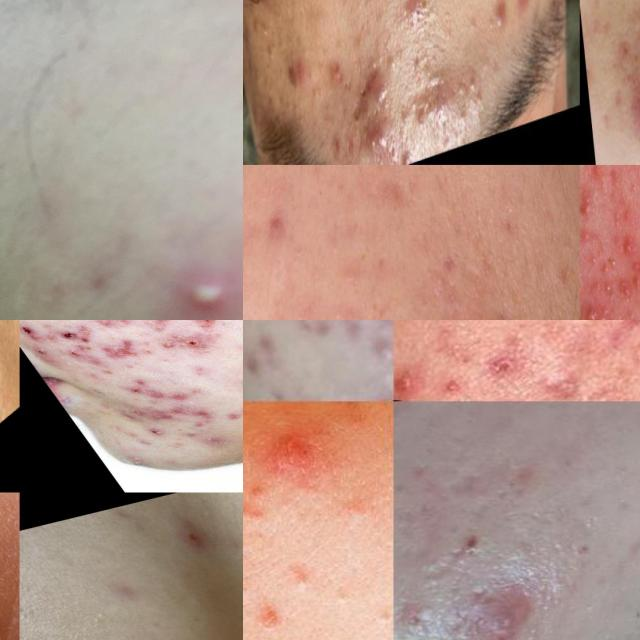acne_scars: (110, 393, 227, 435), (107, 365, 198, 409), (267, 320, 373, 352), (82, 334, 160, 374), (220, 373, 243, 415)
comedone: (243, 325, 291, 376), (451, 58, 479, 100), (326, 583, 356, 611), (413, 92, 428, 135), (84, 611, 108, 627), (472, 83, 486, 110), (453, 105, 468, 130)
papule: (243, 411, 346, 490), (394, 342, 424, 397), (365, 326, 393, 364), (504, 0, 532, 35), (488, 0, 503, 39), (633, 95, 640, 137)
pustule: (584, 291, 618, 320), (580, 188, 598, 218), (620, 230, 638, 259), (583, 249, 600, 269), (606, 249, 621, 269)
sebo-crystan-conglo: (446, 555, 556, 640), (357, 112, 400, 165), (355, 56, 393, 111)
